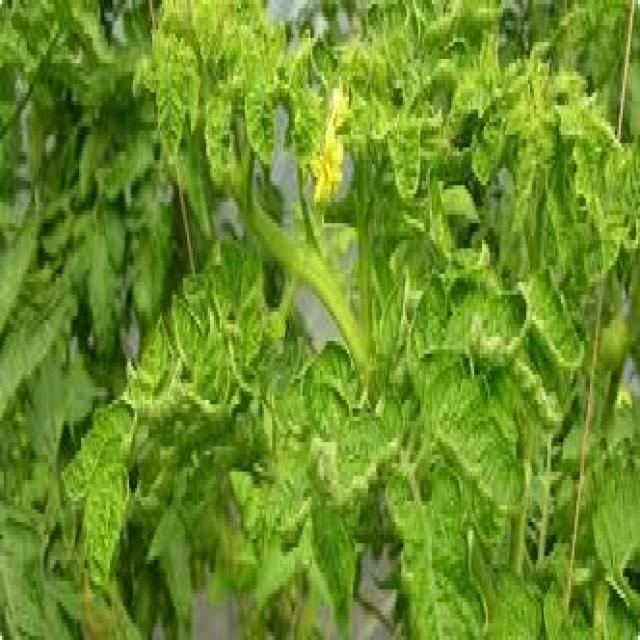Nutirtion_deficie: (494, 8, 640, 426), (338, 270, 478, 640), (314, 0, 448, 259), (151, 0, 312, 203), (250, 329, 373, 572), (99, 261, 214, 510)
